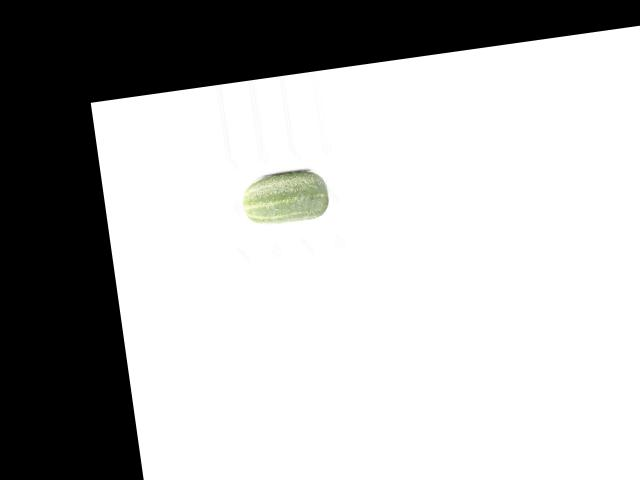cucumber: (240, 166, 332, 227)
